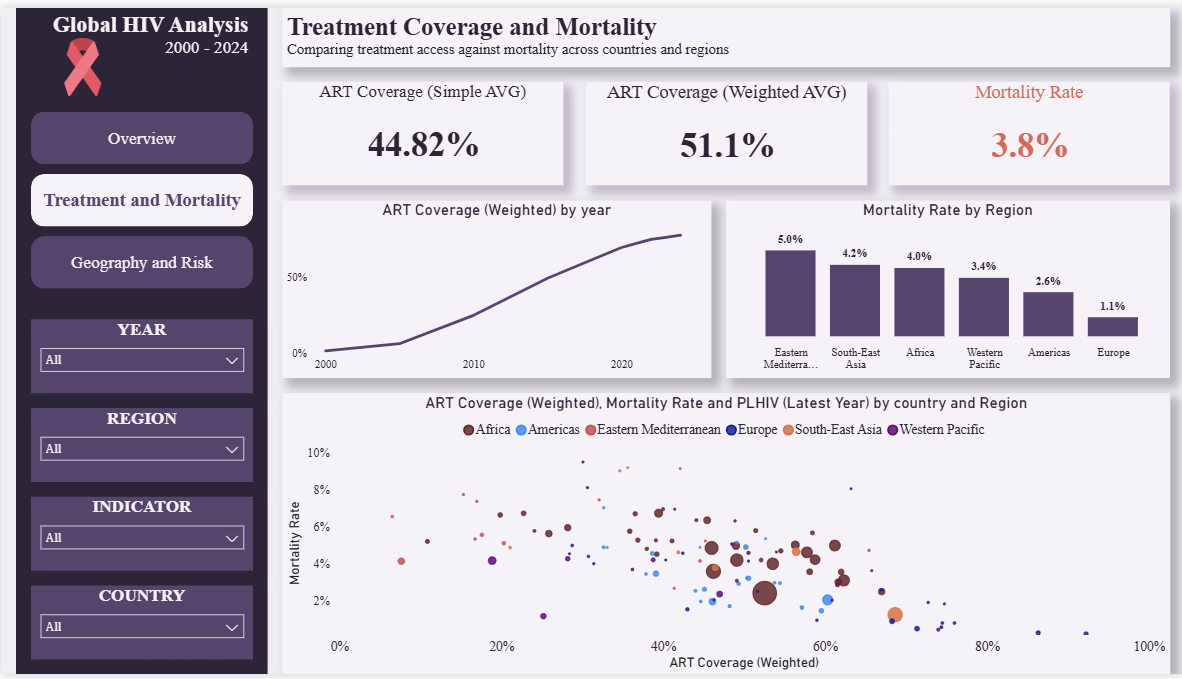

What the dashboard file says about the page in this screenshot:
{"tool":"powerbi","page":{"name":"Treatment and Mortality","canvas":[1280,720],"ordinal":1},"visuals":[{"type":"shape","box":[16,0,272,720],"z":0},{"type":"textbox","box":[304,0,960,64],"z":1000},{"type":"pageNavigator","box":[32,112,240,192],"z":2000},{"type":"cardVisual","title":"ART Coverage (Simple AVG)","fields":{"Data":["HIV_dataset.ART Coverage (Simple Avg)"]},"box":[304,80,304,112],"z":3000},{"type":"cardVisual","title":"Mortality Rate","fields":{"Data":["HIV_dataset.Mortality Rate"]},"box":[960,80,304,112],"z":4000},{"type":"cardVisual","title":"ART Coverage (Weighted AVG)","fields":{"Data":["HIV_dataset.ART Coverage (Weighted)"]},"box":[632,80,304,112],"z":5000},{"type":"lineChart","fields":{"Category":["Dim_Date.year"],"Y":["HIV_dataset.ART Coverage (Weighted)"]},"box":[304,208,464,192],"z":6000},{"type":"scatterChart","fields":{"Category":["Dim_Country.country"],"Series":["Dim_Country.Region"],"Size":["HIV_dataset.PLHIV (Latest Year)"],"X":["HIV_dataset.ART Coverage (Weighted)"],"Y":["HIV_dataset.Mortality Rate"]},"box":[304,416,960,304],"z":7000},{"type":"clusteredColumnChart","fields":{"Category":["Dim_Country.Region"],"Y":["HIV_dataset.Mortality Rate"]},"box":[784,208,480,192],"z":8000},{"type":"group","id":"g1","title":"Group 1","box":[32,0,240,96],"z":9000},{"type":"slicer","title":"YEAR","fields":{"Values":["Dim_Date.year"]},"box":[32,336,240,80],"z":10000},{"type":"textbox","box":[48,0,224,64],"z":11000,"group":"g1"},{"type":"slicer","title":"REGION","fields":{"Values":["Dim_Country.Region"]},"box":[32,432,240,80],"z":11000},{"type":"image","box":[32,32,112,64],"z":12000,"group":"g1"},{"type":"slicer","title":"INDICATOR","fields":{"Values":["Dim_Indicator.indicator"]},"box":[32,528,240,80],"z":12000},{"type":"slicer","title":"COUNTRY","fields":{"Values":["Dim_Country.country"]},"box":[32,624,240,80],"z":13000}]}

Visuals, with their boxes in screenshot pixels (x1, y1, x2, y2), scaled from the page's 1280x720 canvas onto the 1182x679 screenshot:
shape: pyautogui.locateOnScreen(15, 0, 266, 678)
textbox: pyautogui.locateOnScreen(281, 0, 1167, 60)
pageNavigator: pyautogui.locateOnScreen(30, 106, 251, 287)
"ART Coverage (Simple AVG)" cardVisual: pyautogui.locateOnScreen(281, 75, 561, 181)
"Mortality Rate" cardVisual: pyautogui.locateOnScreen(886, 75, 1167, 181)
"ART Coverage (Weighted AVG)" cardVisual: pyautogui.locateOnScreen(584, 75, 864, 181)
lineChart - Dim_Date.year x HIV_dataset.ART Coverage (Weighted): pyautogui.locateOnScreen(281, 196, 709, 377)
scatterChart - Dim_Country.country x Dim_Country.Region: pyautogui.locateOnScreen(281, 392, 1167, 678)
clusteredColumnChart - Dim_Country.Region x HIV_dataset.Mortality Rate: pyautogui.locateOnScreen(724, 196, 1167, 377)
"Group 1" group: pyautogui.locateOnScreen(30, 0, 251, 91)
"YEAR" slicer: pyautogui.locateOnScreen(30, 317, 251, 392)
textbox: pyautogui.locateOnScreen(44, 0, 251, 60)
"REGION" slicer: pyautogui.locateOnScreen(30, 407, 251, 483)
image: pyautogui.locateOnScreen(30, 30, 133, 91)
"INDICATOR" slicer: pyautogui.locateOnScreen(30, 498, 251, 573)
"COUNTRY" slicer: pyautogui.locateOnScreen(30, 588, 251, 664)
